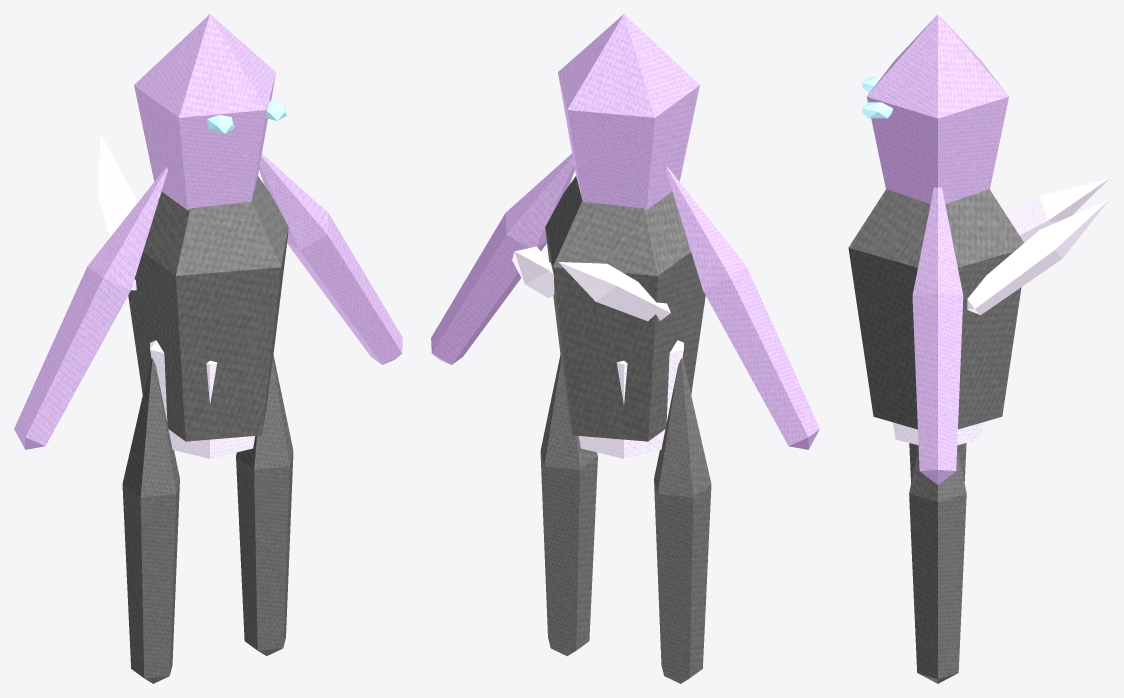
File: deep-fracture-creature-Shardling-seidr.glb
3 views of the same model, side by side, from view 1: azimuth 30°, elevation 25°; view 2: azimuth 150°, elevation 25°; view 3: azimuth 270°, elevation 25° (orthographic). The views are drawn at different scales.
Visible parts, largest first — view 1: torso, head, runner-l, runner-r, arm-l, arm-r, locomotion-core, back-spine-left; view 2: torso, head, runner-l, runner-r, arm-l, arm-r, back-spine-left, locomotion-core, back-spine-right; view 3: torso, head, arm-r, runner-r, back-spine-right, back-spine-left, locomotion-core, runner-l, inset-eye-1.
Part boxes in pixels (<box>): torso: <box>128,176,288,441</box>; head: <box>134,14,275,210</box>; runner-l: <box>122,358,179,683</box>; runner-r: <box>236,355,293,656</box>; arm-l: <box>14,167,167,449</box>; arm-r: <box>259,154,402,364</box>; locomotion-core: <box>150,340,254,458</box>; back-spine-left: <box>98,134,136,290</box>; torso: <box>545,176,705,441</box>; head: <box>558,14,699,210</box>; runner-l: <box>654,358,711,683</box>; runner-r: <box>540,355,597,656</box>; arm-l: <box>666,167,819,449</box>; arm-r: <box>431,154,574,364</box>; back-spine-left: <box>558,262,670,321</box>; locomotion-core: <box>579,340,683,458</box>; back-spine-right: <box>512,246,554,297</box>; torso: <box>848,189,1023,429</box>; head: <box>867,14,1008,204</box>; arm-r: <box>912,187,963,484</box>; runner-r: <box>909,448,966,683</box>; back-spine-right: <box>967,200,1108,314</box>; back-spine-left: <box>1007,178,1108,242</box>; locomotion-core: <box>892,422,982,445</box>; runner-l: <box>909,443,966,483</box>; inset-eye-1: <box>862,102,893,118</box>.
Bounding box in the file's own units: 1.22 × 1.99 × 0.7324.
Materials: 5 (5 with a texture image).
